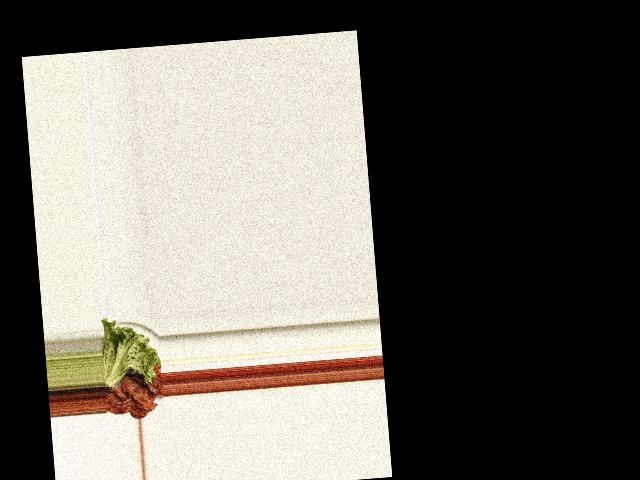lettuce: (98, 317, 160, 387)
